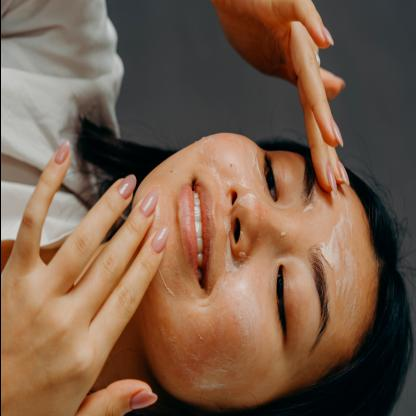Eye: (273, 263, 295, 345), (261, 151, 283, 205)
Mouth: (176, 177, 216, 297)
Nose: (227, 183, 283, 262)
